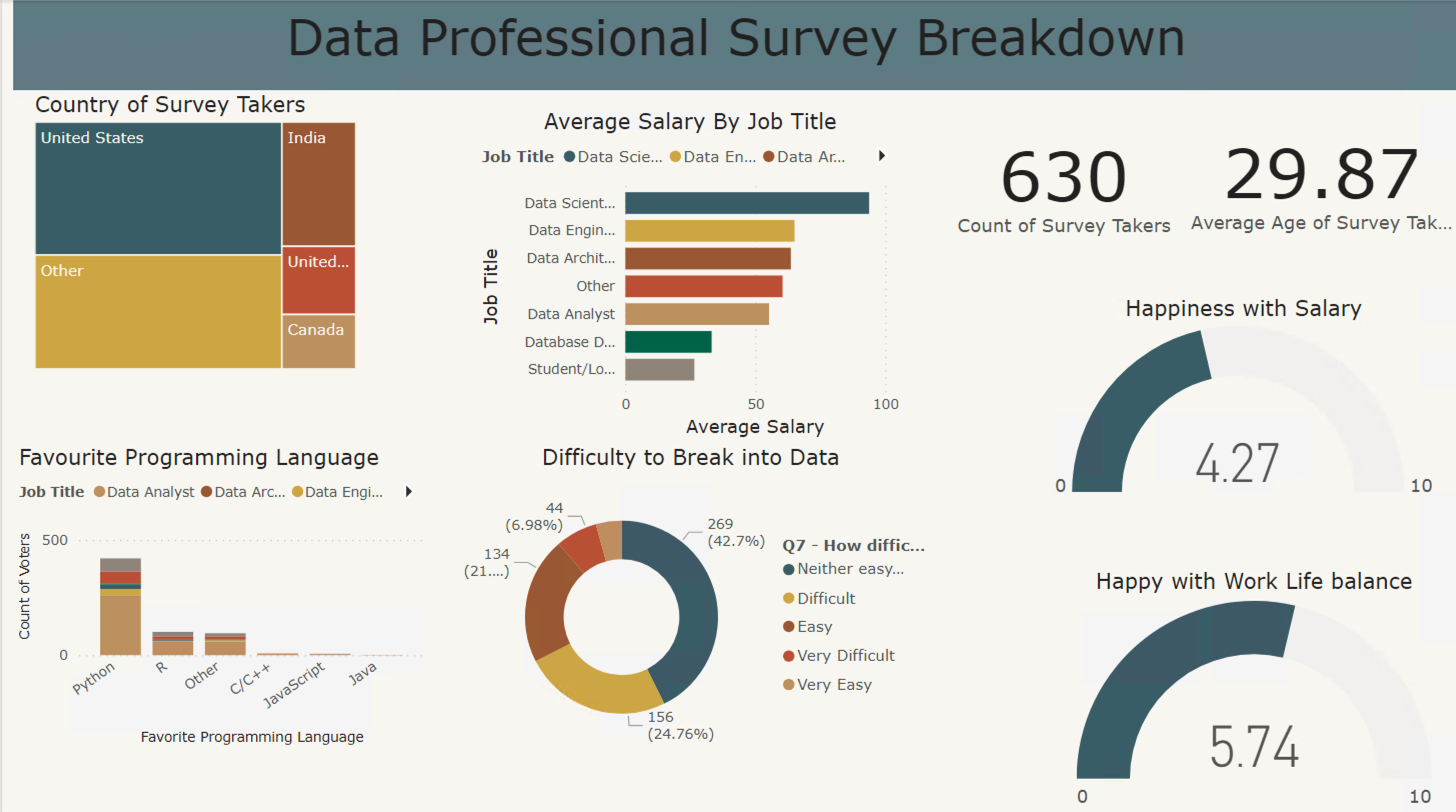

The dashboard page shown, as its layout file describes it:
{"tool":"powerbi","page":{"name":"Page 1","canvas":[1280,720],"ordinal":0},"visuals":[{"type":"textbox","box":[9.7,0,1270.3,78.8],"z":0},{"type":"card","fields":{"Values":["CountNonNull(Data Professional Survey.Unique ID)"]},"box":[826.7,88.5,211.1,143],"z":1000},{"type":"card","fields":{"Values":["Avg(Data Professional Survey.Q10 - Current Age)"]},"box":[1037.8,88.5,242.2,138.1],"z":2000},{"type":"barChart","title":"Average Salary By Job Title","fields":{"Category":["Data Professional Survey.Q1 - Which Title Best Fits your Current Role?.1"],"Y":["Avg(Data Professional Survey.Average Salary)"],"Series":["Data Professional Survey.Q1 - Which Title Best Fits your Current Role?.1"]},"box":[416.3,94.3,376.4,294.7],"z":3000},{"type":"columnChart","title":"Favourite Programming Language","fields":{"Category":["Data Professional Survey.Q5 - Favorite Programming Language.1"],"Y":["CountNonNull(Data Professional Survey.Unique ID)"],"Series":["Data Professional Survey.Q1 - Which Title Best Fits your Current Role?.1"]},"box":[9.7,389.1,366.7,270.4],"z":4000},{"type":"treemap","title":"Country of Survey Takers","fields":{"Group":["Data Professional Survey.Q11 - Which Country do you live in?.1"],"Values":["CountNonNull(Data Professional Survey.Q11 - Which Country do you live in?.1)"]},"box":[23.3,78.8,291.8,250],"z":5000},{"type":"gauge","title":"Happy with Work Life balance","fields":{"Y":["Avg(Data Professional Survey.Q6 - How Happy are you in your Current Position with the following? (Work/Life Balance))"],"MinValue":["Min(Data Professional Survey.Q6 - How Happy are you in your Current Position with the following? (Work/Life Balance))"],"MaxValue":["Max(Data Professional Survey.Q6 - How Happy are you in your Current Position with the following? (Work/Life Balance))1"]},"box":[938.6,498,321.9,221.8],"z":6000},{"type":"gauge","title":"Happiness with Salary","fields":{"Y":["Avg(Data Professional Survey.Q6 - How Happy are you in your Current Position with the following? (Salary))"],"MinValue":["Min(Data Professional Survey.Q6 - How Happy are you in your Current Position with the following? (Salary))"],"MaxValue":["Max(Data Professional Survey.Q6 - How Happy are you in your Current Position with the following? (Salary))"]},"box":[914.3,257.8,353.1,183.8],"z":7000},{"type":"donutChart","title":"Difficulty to Break into Data","fields":{"Category":["Data Professional Survey.Q7 - How difficult was it for you to break into Data?"],"Y":["CountNonNull(Data Professional Survey.Q7 - How difficult was it for you to break into Data?)"]},"box":[397.8,389.1,414.3,283],"z":8000}]}

Visuals, with their boxes in screenshot pixels (x1, y1, x2, y2), scaled from the page's 1280x720 canvas onto the 1456x812 screenshot:
textbox: region(11, 0, 1455, 89)
card - CountNonNull(Data Professional Survey.Unique ID): region(940, 100, 1180, 261)
card - Avg(Data Professional Survey.Q10 - Current Age): region(1180, 100, 1455, 256)
"Average Salary By Job Title" barChart: region(474, 106, 902, 439)
"Favourite Programming Language" columnChart: region(11, 439, 428, 744)
"Country of Survey Takers" treemap: region(27, 89, 358, 371)
"Happy with Work Life balance" gauge: region(1068, 562, 1434, 811)
"Happiness with Salary" gauge: region(1040, 291, 1442, 498)
"Difficulty to Break into Data" donutChart: region(452, 439, 924, 758)
